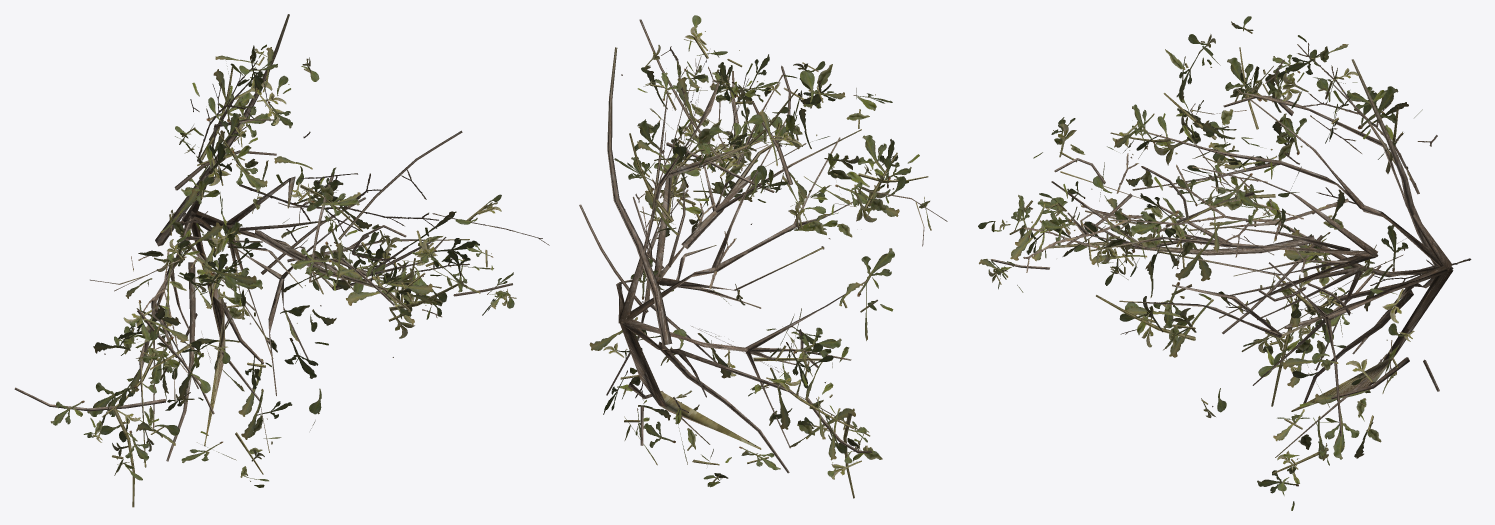
The model's file is searsia_bush.glb.
3 views of the same model, side by side, from view 1: azimuth 30°, elevation 25°; view 2: azimuth 150°, elevation 25°; view 3: azimuth 270°, elevation 25° (orthographic). The views are drawn at different scales.
Visible parts, largest first — view 1: searsia_bush; view 2: searsia_bush; view 3: searsia_bush.
Part boxes in pixels (x1,y1,x2,y2): searsia_bush: (14, 14, 549, 507); searsia_bush: (579, 15, 947, 498); searsia_bush: (978, 16, 1471, 510).
Size of the model in its own units: 1.83 by 2.14 by 2.02.
3 materials, 3 textured.
